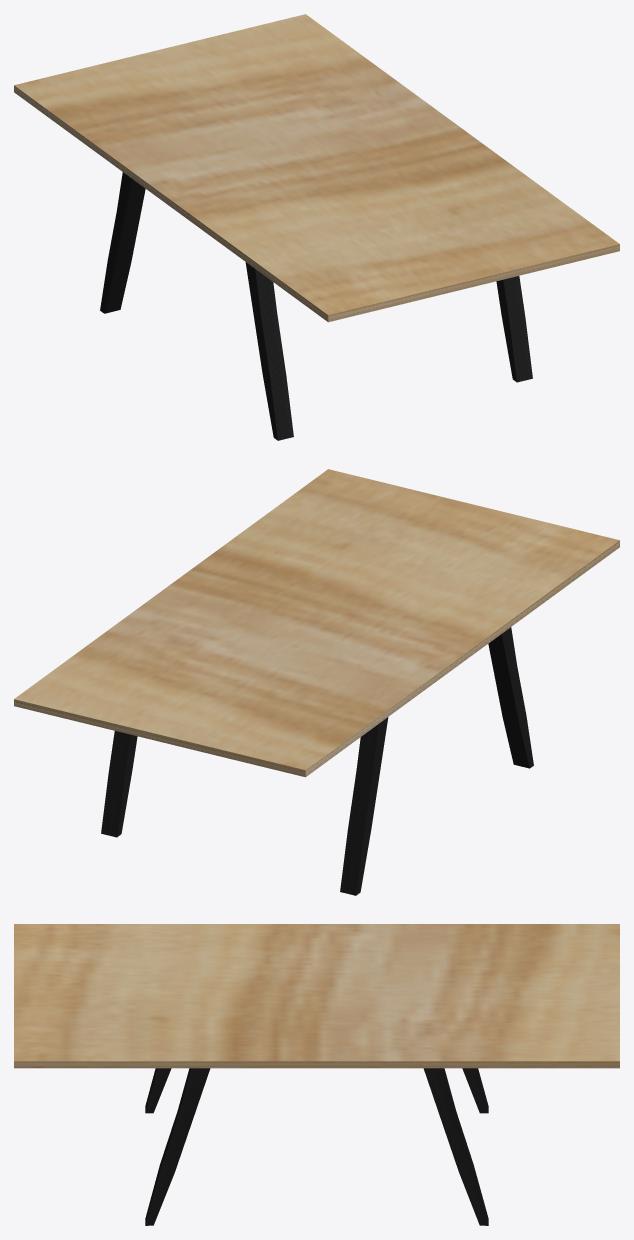
File: low_poly_table.glb
3 views of the same model, one above another, from view 1: azimuth 30°, elevation 25°; view 2: azimuth 150°, elevation 25°; view 3: azimuth 270°, elevation 25° (orthographic). The views are drawn at different scales.
Parts seen in each view (by area): view 1: Object_2; view 2: Object_2; view 3: Object_2.
Boxes of the visible parts, <box> form: Object_2: <box>14,14,619,440</box>; Object_2: <box>14,469,619,895</box>; Object_2: <box>14,924,619,1225</box>.
Bounding box in the file's own units: 18.22 × 10.73 × 33.99.
1 material, 1 textured.
